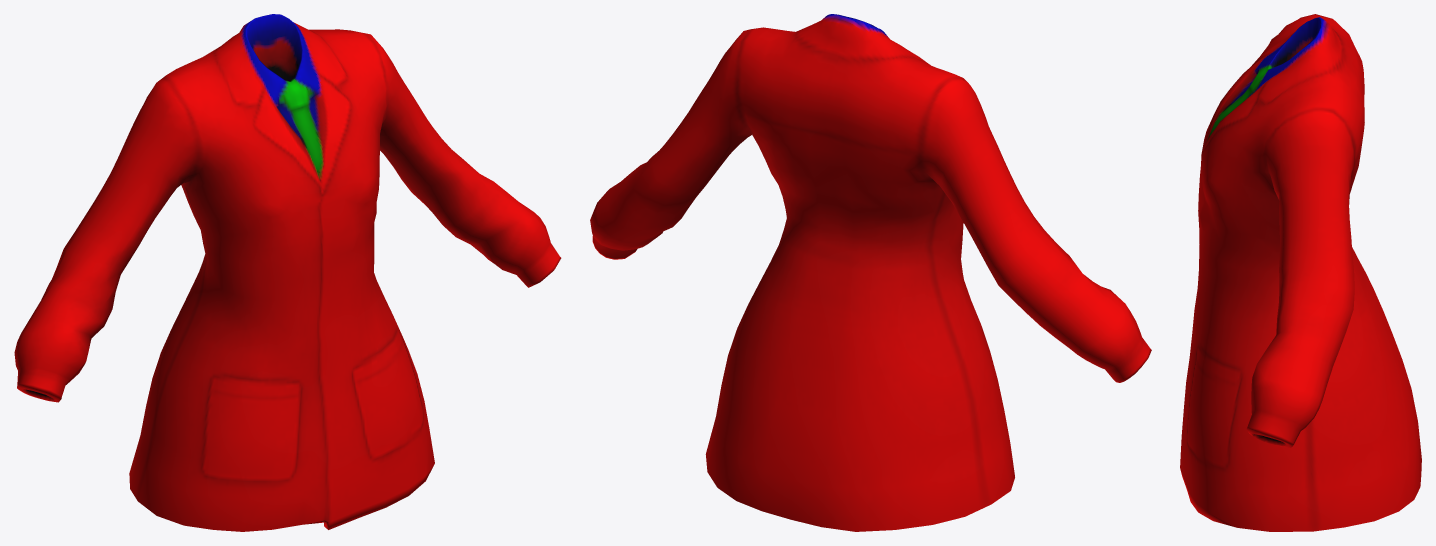
The model's file is Top_LabCoat.obj.
3 renders of one model, left to right at view 1: azimuth 30°, elevation 25°; view 2: azimuth 150°, elevation 25°; view 3: azimuth 270°, elevation 25°, orthographic. The views are drawn at different scales.
Parts seen in each view (by area): view 1: Top_LabCoat_0; view 2: Top_LabCoat_0; view 3: Top_LabCoat_0.
Part boxes in pixels (<box>): Top_LabCoat_0: <box>14,14,561,531</box>; Top_LabCoat_0: <box>590,14,1151,531</box>; Top_LabCoat_0: <box>1180,14,1421,531</box>.
Bounding box in the file's own units: 0.896 × 0.7354 × 0.3536.
Materials: 1 (1 with a texture image).
